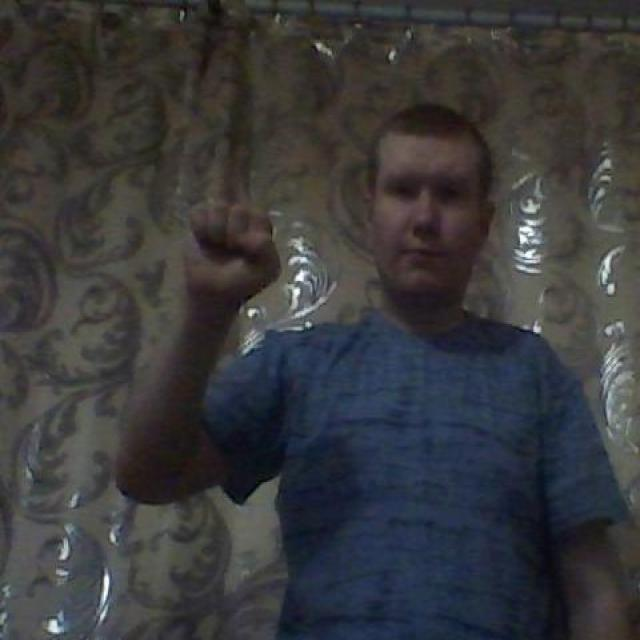hand: (180, 196, 281, 316)
